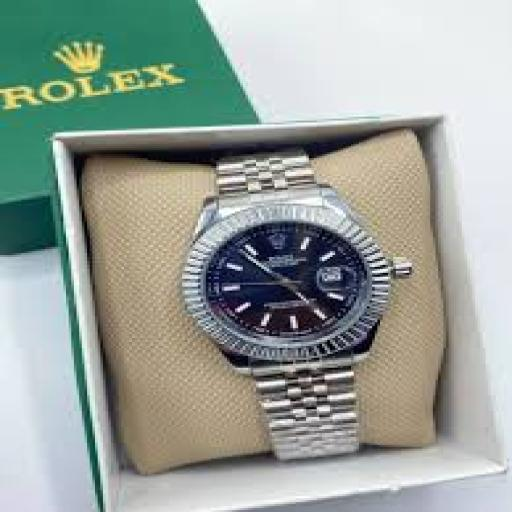KolSaati: (138, 114, 463, 494)
